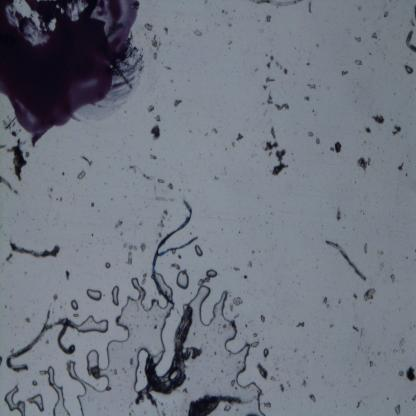Air bubble: (69, 274, 175, 416), (189, 281, 264, 416), (47, 367, 71, 415), (133, 346, 149, 392), (76, 313, 110, 334), (5, 386, 28, 414), (26, 393, 46, 412), (176, 268, 191, 289), (110, 282, 121, 307), (86, 286, 103, 302), (193, 245, 204, 257), (206, 267, 217, 278), (104, 257, 113, 269), (404, 65, 414, 75), (262, 347, 270, 358), (32, 380, 38, 387), (171, 250, 176, 254)
Background material: (130, 163, 172, 202), (188, 392, 245, 416), (156, 207, 170, 242), (272, 150, 290, 176), (122, 240, 140, 266), (146, 391, 160, 416), (250, 0, 304, 6), (262, 140, 279, 157), (256, 361, 269, 380), (356, 156, 372, 171), (273, 100, 291, 112), (79, 154, 93, 168), (149, 124, 161, 140), (151, 34, 162, 51), (75, 167, 88, 181), (391, 122, 402, 138), (90, 364, 101, 380), (364, 287, 376, 301), (372, 113, 384, 125), (406, 366, 415, 382), (135, 390, 145, 404), (333, 140, 343, 154), (169, 262, 182, 272), (70, 298, 80, 311), (398, 337, 406, 353), (166, 180, 176, 192), (128, 401, 136, 416), (140, 271, 148, 285), (46, 186, 54, 200), (113, 219, 123, 230), (172, 98, 183, 108), (359, 327, 368, 339), (198, 278, 210, 286), (232, 298, 244, 306), (236, 130, 244, 142), (336, 206, 342, 222), (323, 296, 330, 309), (144, 22, 154, 31), (223, 403, 232, 413), (64, 269, 72, 280), (307, 82, 318, 90), (268, 92, 274, 106), (209, 127, 218, 136), (193, 28, 202, 37), (246, 260, 255, 269), (356, 342, 364, 352), (140, 242, 148, 252), (148, 153, 158, 161), (394, 405, 402, 415), (270, 126, 276, 139), (265, 76, 276, 83), (275, 62, 284, 70), (397, 162, 405, 171), (264, 13, 272, 22), (230, 319, 236, 331), (300, 379, 308, 388), (364, 125, 372, 134), (309, 394, 317, 403), (250, 341, 260, 348), (7, 253, 14, 263), (245, 411, 259, 416), (129, 358, 135, 369), (279, 383, 285, 394), (226, 20, 234, 28), (354, 59, 363, 66), (154, 114, 161, 123), (222, 323, 229, 332), (351, 325, 360, 332), (220, 8, 229, 15), (148, 104, 154, 114), (390, 272, 396, 282), (356, 399, 362, 409), (233, 266, 241, 273), (264, 401, 272, 408), (383, 10, 390, 18), (268, 375, 276, 382), (283, 68, 290, 76), (354, 36, 362, 43), (371, 32, 378, 40), (329, 321, 336, 329), (0, 141, 7, 149), (163, 26, 169, 35), (364, 242, 368, 255), (413, 4, 416, 21), (24, 317, 31, 324), (410, 19, 416, 27), (74, 312, 80, 320), (256, 192, 262, 200), (260, 315, 266, 323), (308, 1, 312, 13), (212, 175, 220, 181), (152, 52, 158, 60), (352, 292, 358, 300), (308, 130, 314, 138), (297, 322, 306, 327), (251, 332, 258, 338), (52, 294, 58, 301), (262, 83, 268, 90), (356, 5, 363, 11), (316, 137, 322, 144), (398, 370, 404, 377), (56, 197, 63, 203), (218, 327, 223, 335), (286, 380, 291, 388), (379, 262, 384, 270), (342, 70, 348, 76), (243, 275, 249, 281), (250, 249, 256, 255), (229, 302, 233, 311), (106, 386, 112, 392), (359, 210, 365, 216), (378, 249, 384, 255), (46, 337, 50, 346), (233, 313, 240, 318), (113, 368, 118, 375), (369, 361, 374, 368), (182, 388, 189, 393), (158, 179, 165, 184), (231, 380, 235, 388), (164, 66, 172, 70), (267, 62, 271, 70), (227, 41, 233, 46), (0, 354, 3, 364), (138, 221, 144, 226), (169, 78, 174, 84), (337, 298, 342, 304), (304, 97, 310, 102), (302, 354, 307, 360), (153, 324, 158, 330), (188, 127, 192, 134), (232, 141, 236, 148), (91, 202, 95, 209), (270, 54, 274, 61), (330, 147, 335, 152), (269, 211, 274, 216), (188, 231, 193, 236), (178, 254, 182, 260), (274, 367, 280, 371), (120, 230, 124, 236), (400, 134, 404, 140), (378, 350, 382, 356), (412, 395, 416, 401), (357, 378, 361, 384), (399, 307, 403, 312), (393, 349, 397, 354), (341, 225, 346, 229), (244, 324, 248, 329), (316, 43, 320, 48), (294, 347, 298, 352), (405, 172, 408, 178), (91, 232, 94, 238), (4, 305, 8, 309), (312, 350, 316, 354), (237, 360, 241, 364), (386, 396, 390, 400), (320, 354, 324, 358), (306, 360, 310, 364), (110, 198, 114, 202), (306, 62, 310, 66), (413, 323, 416, 328), (193, 332, 196, 337), (321, 374, 324, 379), (306, 375, 309, 380), (390, 118, 393, 122), (124, 195, 127, 199), (221, 370, 225, 373), (265, 221, 269, 224), (372, 352, 375, 356), (414, 248, 416, 253), (406, 256, 408, 261), (408, 160, 411, 163), (238, 231, 241, 234), (369, 53, 372, 56), (217, 324, 221, 326), (375, 41, 377, 45), (270, 178, 272, 182), (62, 172, 64, 176), (221, 228, 223, 232), (214, 352, 216, 356), (324, 364, 327, 366), (407, 154, 408, 158)
Cellulose filter fibre: (143, 305, 197, 396), (5, 316, 76, 372), (324, 240, 368, 284), (8, 236, 62, 261), (0, 172, 20, 195), (404, 28, 416, 54)
Cotton: (152, 199, 196, 305)
Pen: (0, 1, 150, 143), (7, 136, 28, 184)
